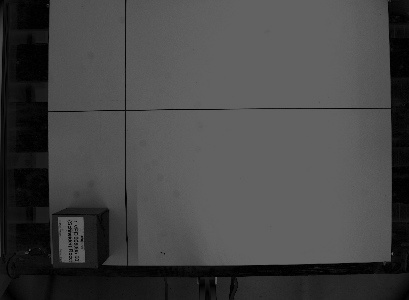b5: (50, 205, 111, 270)
